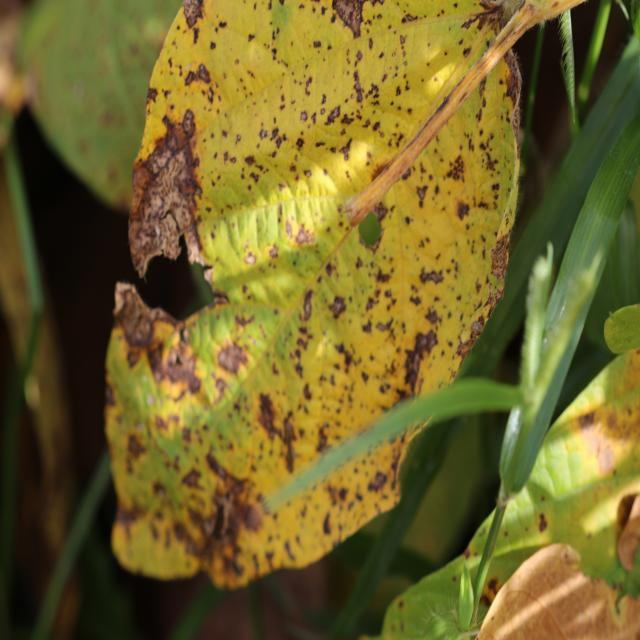Bacterial_Blight: (458, 258, 513, 366), (128, 188, 181, 276), (203, 458, 258, 542), (144, 111, 197, 184), (361, 263, 405, 333), (260, 397, 298, 471), (157, 335, 203, 394), (401, 328, 438, 393), (117, 293, 159, 348), (425, 75, 465, 126), (242, 149, 285, 189), (205, 448, 244, 486), (475, 128, 501, 177), (332, 0, 365, 36), (504, 54, 522, 119), (216, 341, 249, 375), (490, 232, 510, 288), (475, 175, 503, 215), (449, 143, 471, 192), (454, 322, 479, 364), (473, 4, 505, 35), (257, 392, 280, 435), (358, 217, 384, 255), (270, 2, 293, 41), (146, 341, 168, 379), (209, 500, 229, 539), (260, 111, 288, 137), (184, 64, 211, 90), (334, 340, 355, 372), (370, 159, 394, 185), (183, 1, 205, 29), (131, 163, 152, 192), (180, 466, 204, 490), (126, 431, 147, 458), (419, 267, 444, 286), (328, 294, 347, 319), (368, 470, 388, 493), (294, 224, 314, 246), (301, 289, 314, 321), (352, 70, 364, 100), (159, 194, 174, 218), (181, 109, 195, 134), (375, 266, 393, 285), (126, 348, 141, 370), (455, 199, 470, 220), (424, 307, 440, 326), (326, 105, 341, 124), (470, 319, 484, 337), (339, 143, 352, 162), (145, 85, 158, 103), (416, 185, 428, 203), (323, 511, 332, 534), (268, 243, 280, 260), (244, 251, 256, 265), (361, 319, 372, 334), (295, 136, 305, 150), (146, 393, 156, 407), (259, 128, 268, 140), (300, 110, 308, 122), (209, 40, 217, 50), (433, 75, 439, 83)
Soybean: (105, 0, 579, 588)
